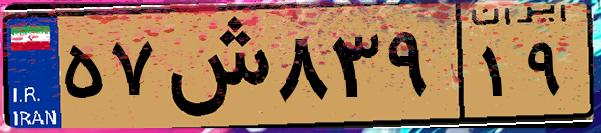1: (475, 38, 525, 113)
3: (330, 28, 385, 110)
5: (57, 26, 110, 100)
7: (110, 28, 158, 98)
8: (270, 28, 330, 110)
9: (385, 28, 445, 110), (525, 38, 570, 115)
ش: (158, 12, 270, 120)
